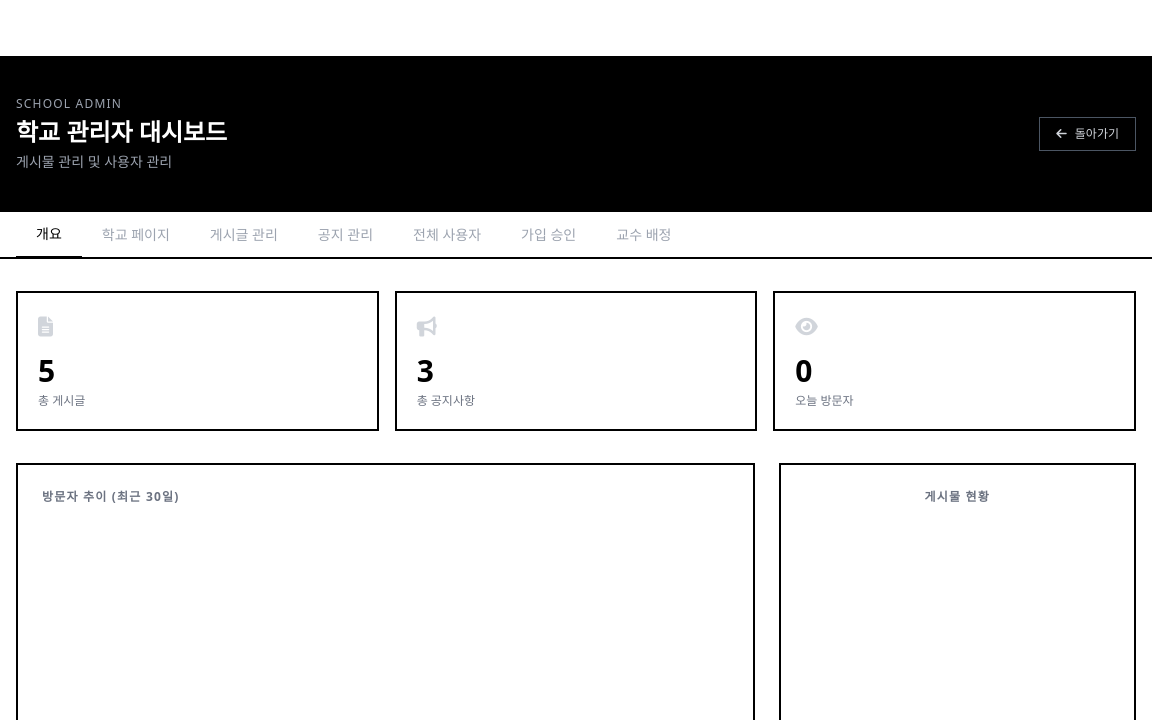
SchoolAdminPage — 역할 관리 모달 › "전체 사용자" 탭에 사용자마다 "역할 관리" 버튼이 표시된다
Click the button "전체 사용자" at (447, 234), box [393,212,501,257]
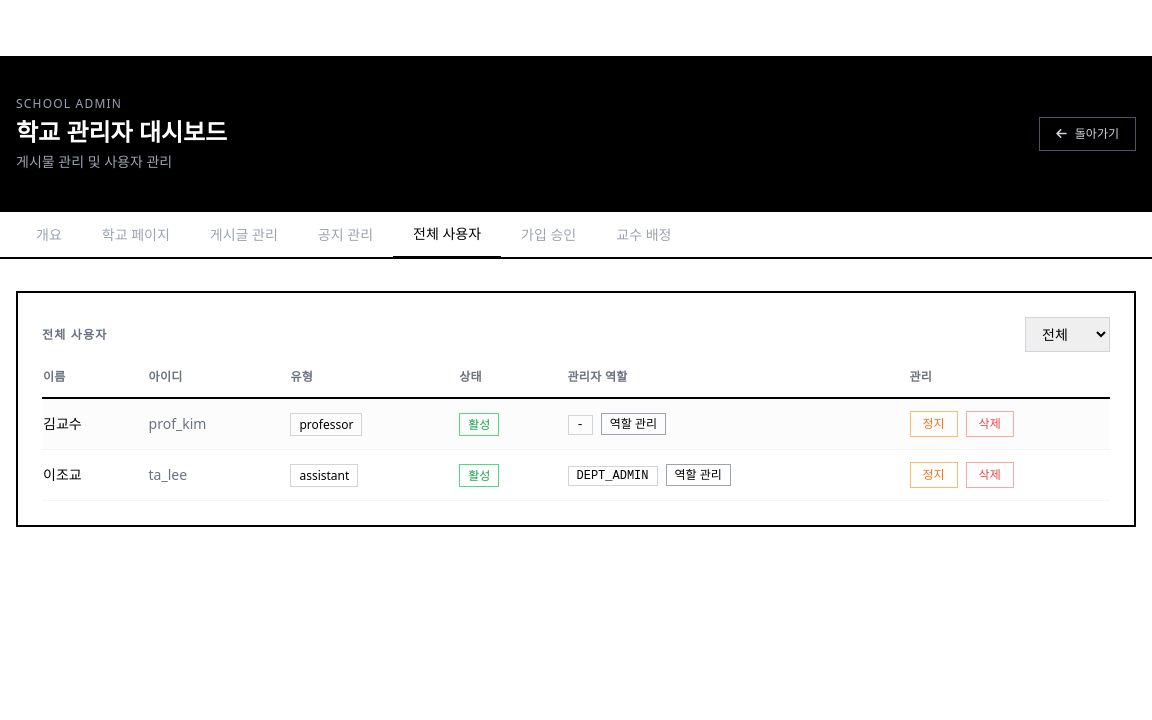
Expected: the number of buttons "역할 관리" is 2, [601,413,666,435]; [666,464,731,486]
